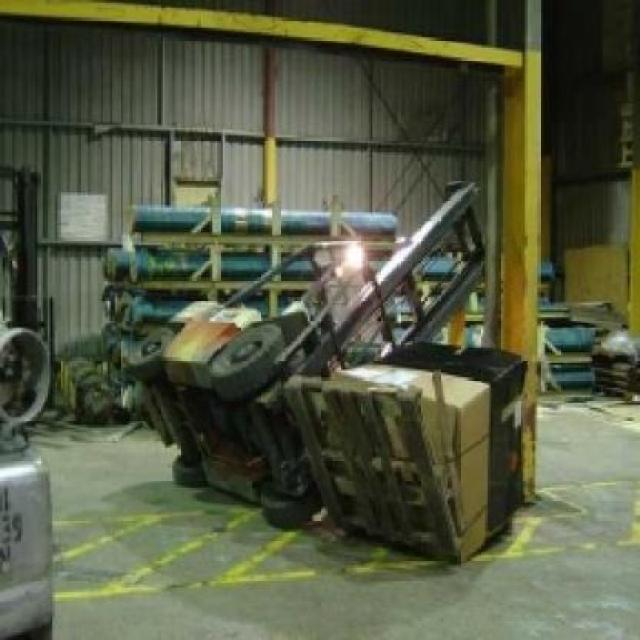forklift: (130, 176, 483, 533)
